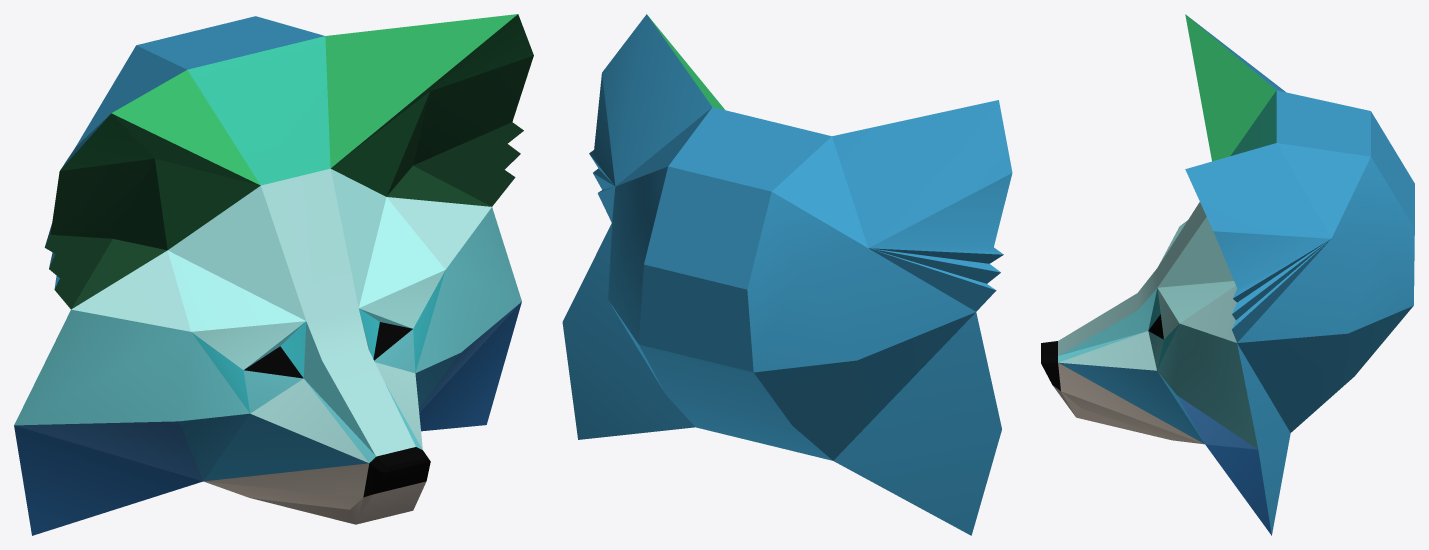
Rendered from beta-fox.fbx.
3 views of the same model, side by side, from view 1: azimuth 30°, elevation 25°; view 2: azimuth 150°, elevation 25°; view 3: azimuth 270°, elevation 25° (orthographic). The views are drawn at different scales.
Visible parts, largest first — view 1: Default_2; view 2: Default_2; view 3: Default_2.
Boxes of the visible parts, x1,y1,x2,y2 form: Default_2: [14, 14, 533, 535]; Default_2: [562, 14, 1012, 535]; Default_2: [1041, 14, 1414, 535].
Bounding box in the file's own units: 244 × 210 × 199.
